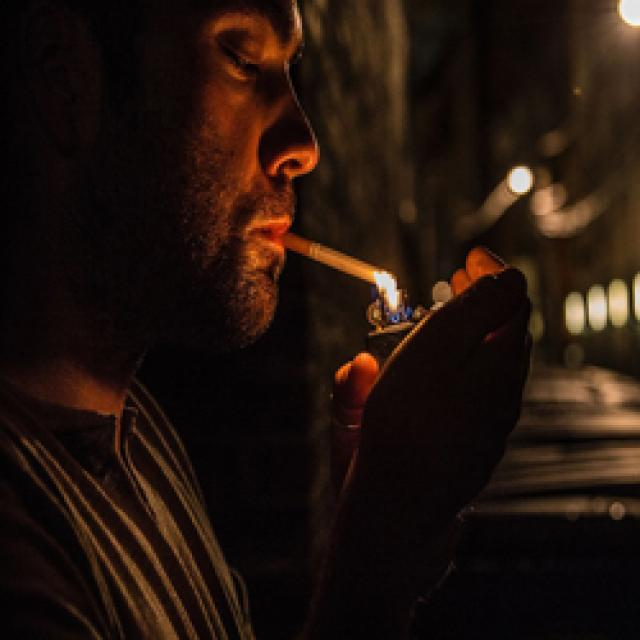Smooking: (273, 220, 405, 302)
